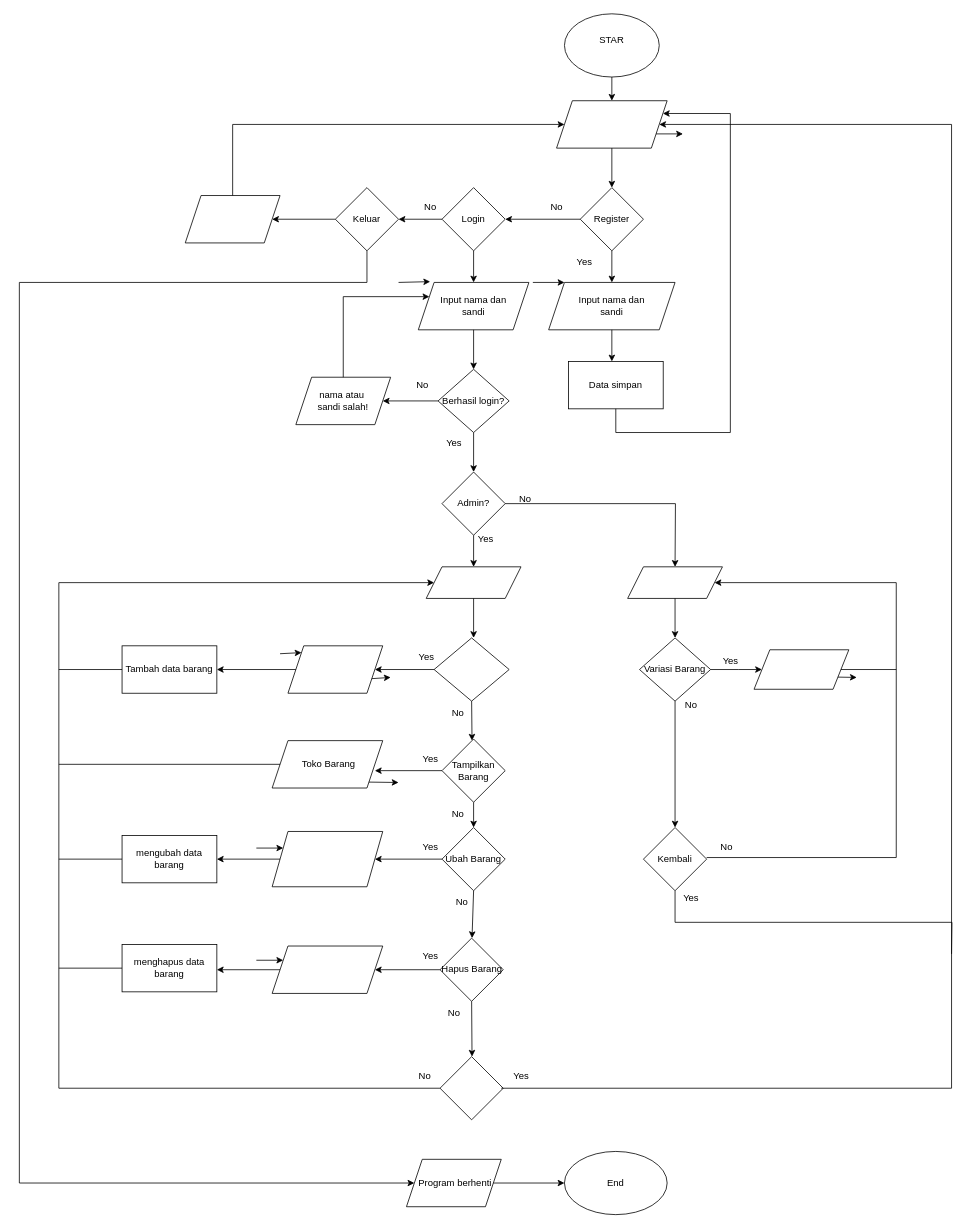
Some shapes in this 972 by 1228 pixel diagram are drawn without their labels. Here are the shapes that lost their labels. From the top down, the centre of each, then its label:
At [611,124]: "menu utama".
At [232,219]: "input tidak valid".
At [473,582]: "Menu Admin".
At [674,582]: "Menu User".
At [335,669]: "input data barang".
At [471,669]: "Tambah Barang".
At [801,669]: "Tabel barang".
At [327,859]: "input mengubah data buah terpilih".
At [327,969]: "input pilih barang".
At [471,1088]: "Logout".
